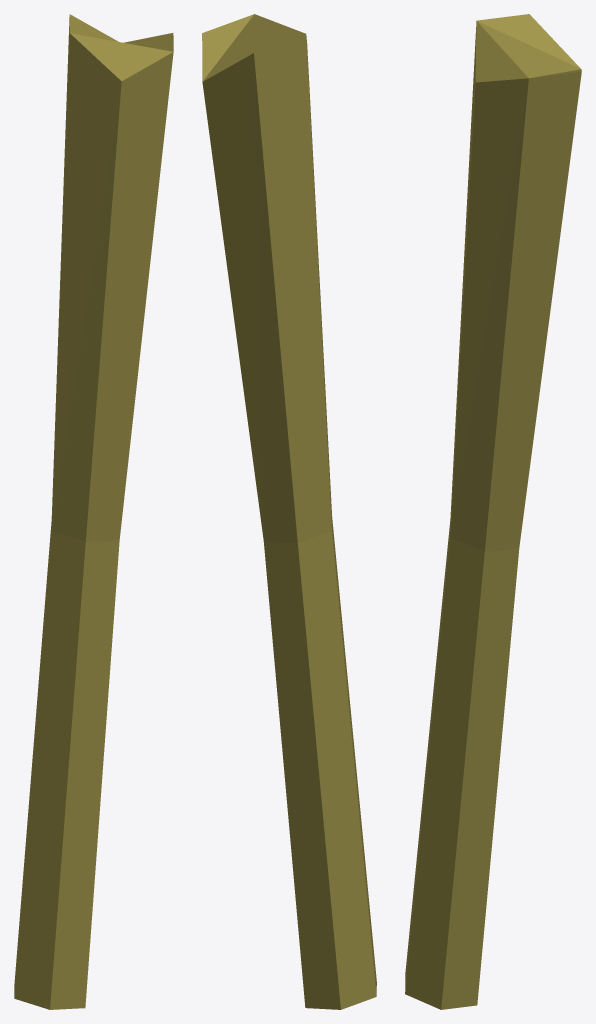
The model's file is parchment.FBX.
The picture shows the model from 3 angles, left to right: view 1: azimuth 30°, elevation 25°; view 2: azimuth 150°, elevation 25°; view 3: azimuth 330°, elevation 25°; orthographic projection.
Parts seen in each view (by area): view 1: parchment; view 2: parchment; view 3: parchment.
Part boxes in pixels (<box>): parchment: <box>14,14,173,1009</box>; parchment: <box>202,14,376,1009</box>; parchment: <box>405,14,581,1009</box>.
Size of the model in its own units: 0.4448 by 2.45 by 0.2433.
